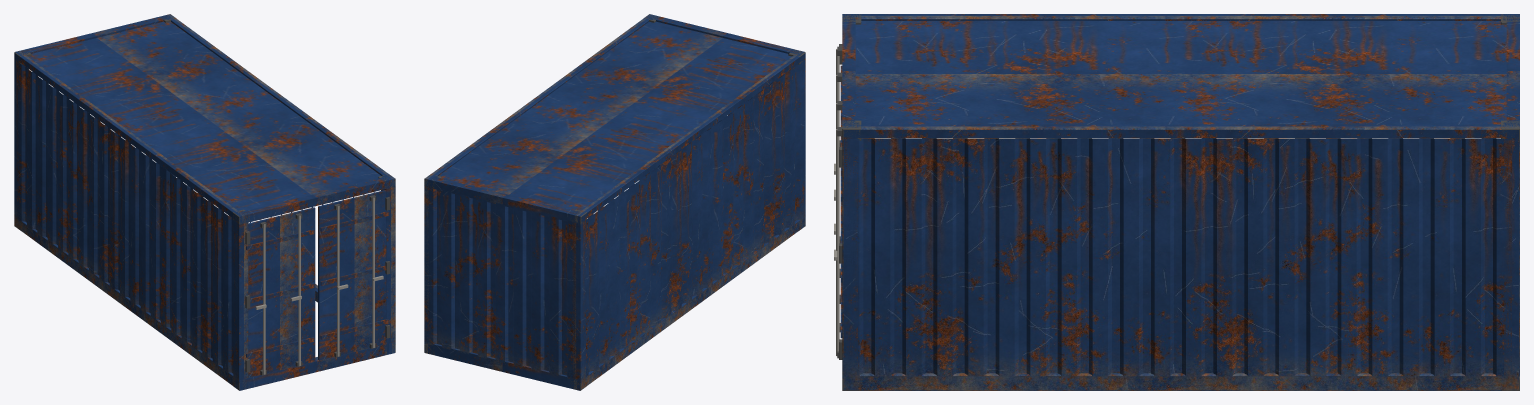
File: container_blue.glb
3 views of the same model, side by side, from view 1: azimuth 30°, elevation 25°; view 2: azimuth 150°, elevation 25°; view 3: azimuth 270°, elevation 25° (orthographic). The views are drawn at different scales.
Visible parts, largest first — view 1: model; view 2: model; view 3: model.
Part boxes in pixels (x1=…): model: x1=14, y1=14, x2=395, y2=390; model: x1=424, y1=14, x2=805, y2=390; model: x1=834, y1=14, x2=1519, y2=390.
Size of the model in its own units: 2.44 by 2.59 by 6.13.
3 materials, 1 textured.
